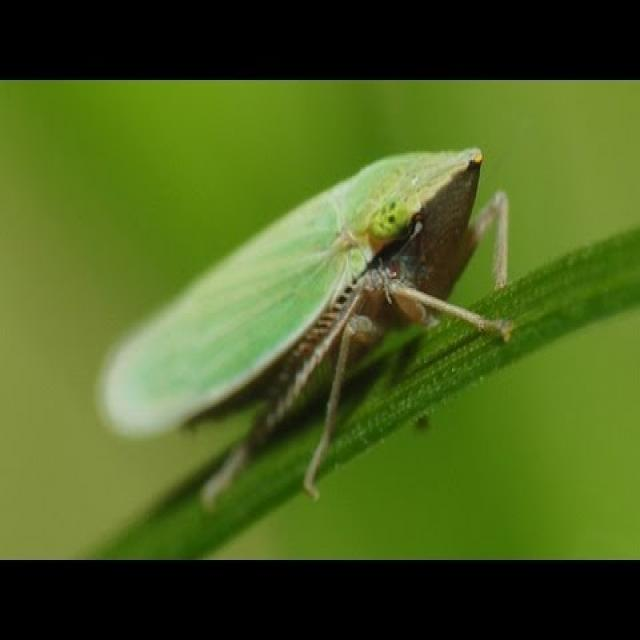Yechan: (66, 132, 535, 522)
